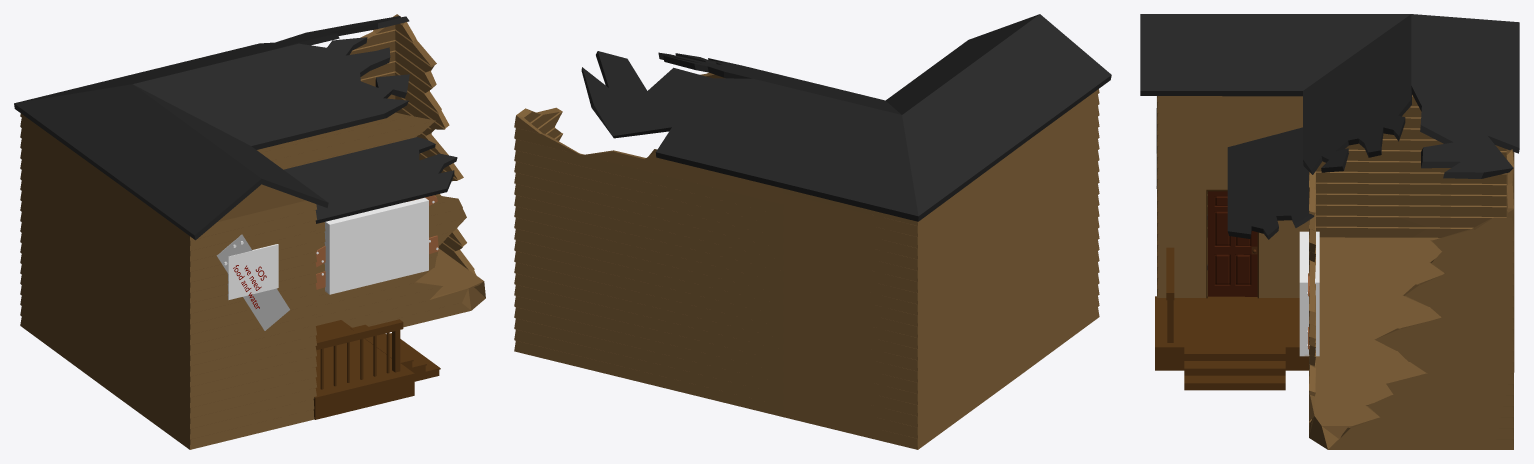
Rendered from final house.fbx.
3 renders of one model, left to right at view 1: azimuth 30°, elevation 25°; view 2: azimuth 150°, elevation 25°; view 3: azimuth 270°, elevation 25°, orthographic. The views are drawn at different scales.
Parts seen in each view (by area): view 1: house, roof (2), roof, CTRL_Hole, deck, CTRL_Hole.001, board 3, Stairs, roof part 1, railing, railing 3; view 2: house, roof (2); view 3: house, roof (2), deck, roof, Stairs, door, CTRL_Hole, railing, door frame.
Part boxes in pixels (box(x1,y1,x2,y2)): house: box(20, 14, 485, 449); roof (2): box(14, 16, 409, 240); roof: box(284, 137, 457, 223); CTRL_Hole: box(324, 197, 428, 294); deck: box(313, 320, 414, 419); CTRL_Hole.001: box(227, 244, 278, 299); board 3: box(216, 234, 289, 330); Stairs: box(351, 324, 440, 381); roof part 1: box(217, 184, 305, 222); railing: box(315, 319, 403, 350); railing 3: box(320, 332, 389, 389); house: box(514, 72, 1099, 449); roof (2): box(581, 14, 1111, 221); house: box(1157, 94, 1514, 449); roof (2): box(1140, 14, 1519, 178); deck: box(1155, 296, 1308, 370); roof: box(1227, 127, 1313, 239); Stairs: box(1184, 346, 1285, 390); door: box(1207, 191, 1257, 296); CTRL_Hole: box(1299, 231, 1319, 356); railing: box(1166, 247, 1174, 300); door frame: box(1206, 189, 1258, 298).
Bounding box in the file's own units: 913 × 600 × 750.
